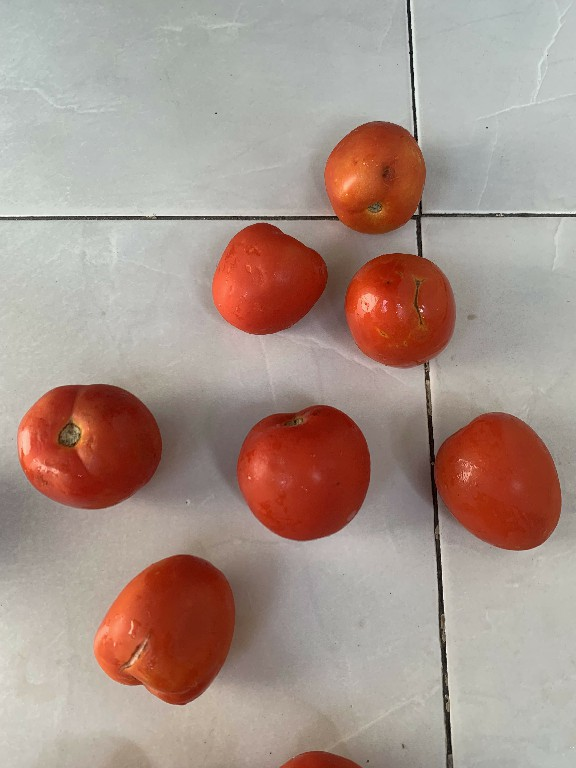NG: (86, 547, 244, 708), (340, 246, 458, 373), (316, 115, 430, 234)
OK: (12, 381, 164, 516), (428, 406, 564, 552), (239, 403, 370, 543), (204, 210, 335, 346)
